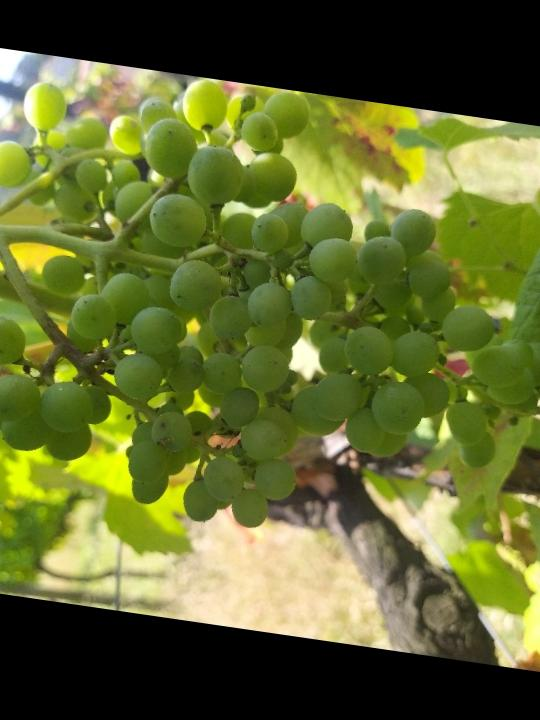grape: (0, 50, 540, 578)
